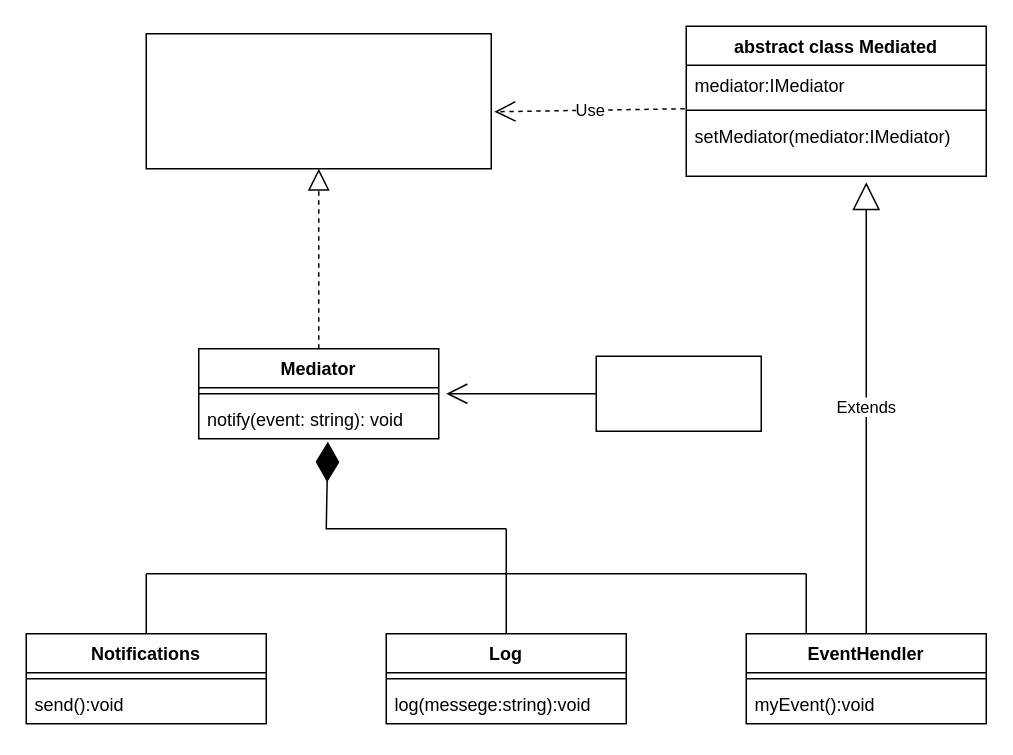
Some shapes in this 1013 by 755 pixel diagram are drawn without their labels. The centre of each missing label's shape, as x and y in pixels:
<<Interface>> IMediator notify(sender:string,event:string):void: (x=318, y=100)
ClientCode: (x=678, y=393)
